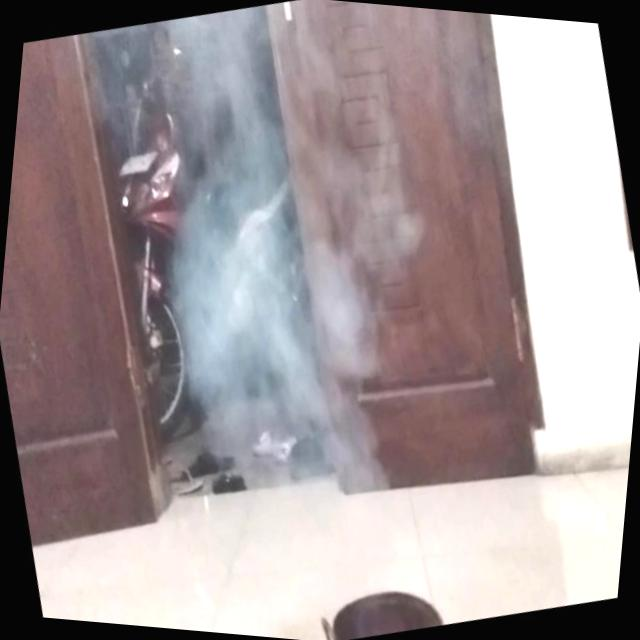smoke: (94, 0, 435, 555)
